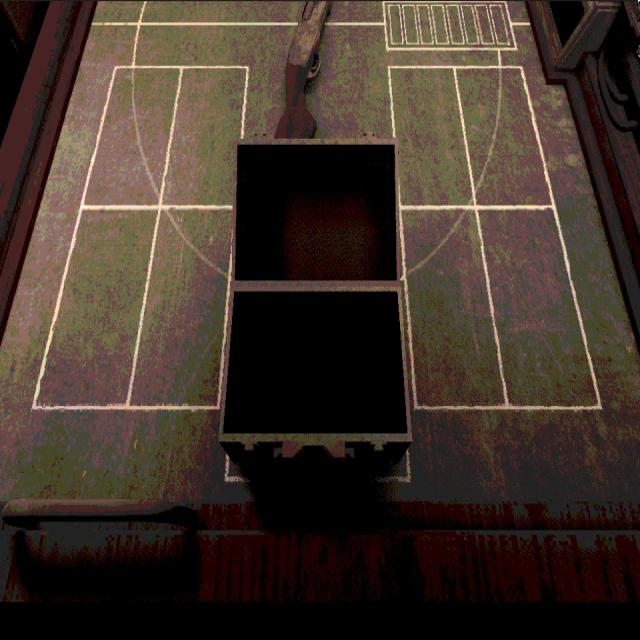emptyspace: (33, 202, 158, 408), (480, 207, 599, 406), (402, 204, 512, 410), (129, 203, 229, 407), (456, 64, 553, 208), (80, 65, 179, 206), (390, 67, 479, 208), (163, 64, 246, 206)
inventorybox: (218, 137, 415, 440)
